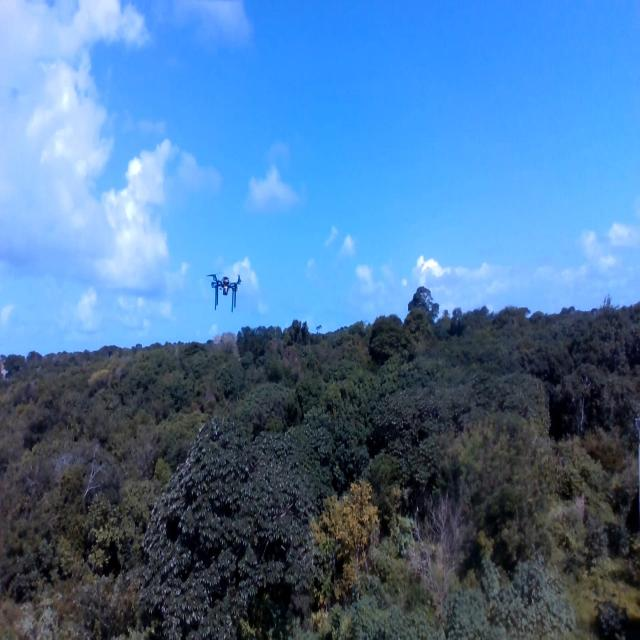-uav-: (207, 265, 245, 320)
